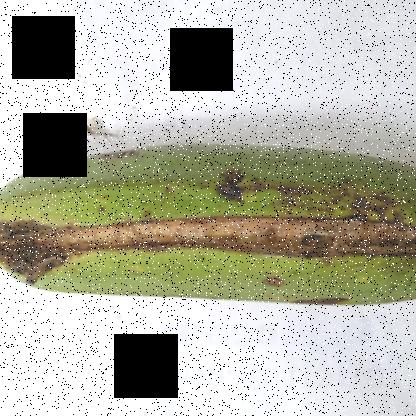rotten: (84, 205, 415, 274), (0, 193, 101, 295)
unripe: (32, 138, 415, 333)
